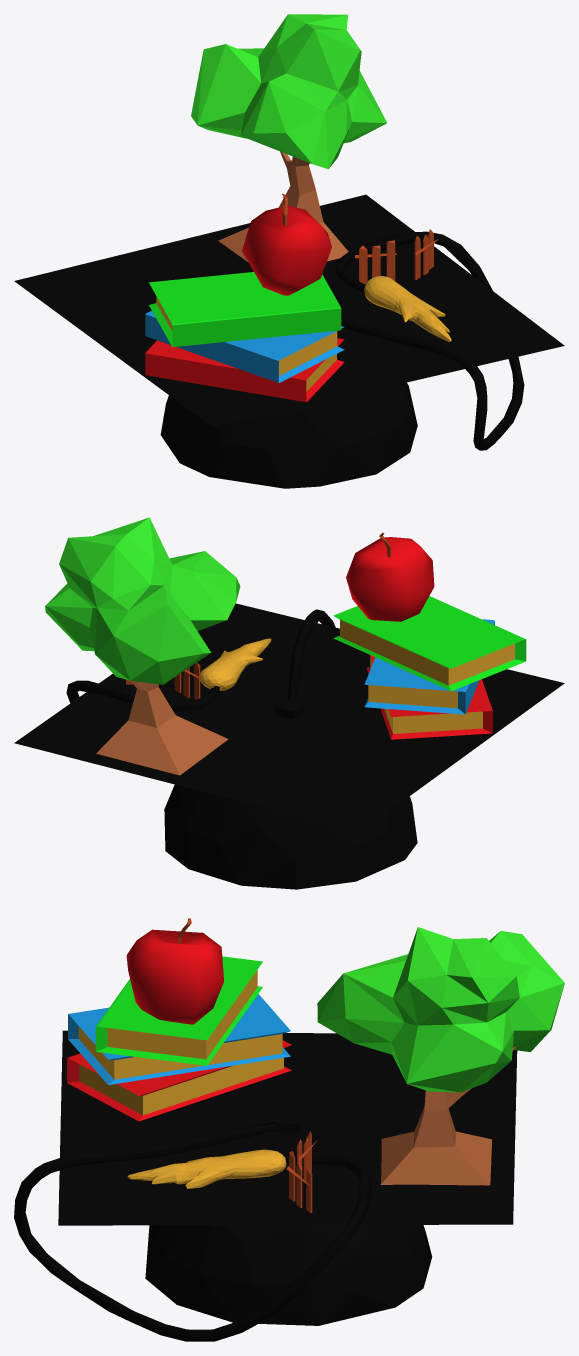
File: edu.gltf
3 renders of one model, top to bottom at view 1: azimuth 30°, elevation 25°; view 2: azimuth 150°, elevation 25°; view 3: azimuth 270°, elevation 25°, orthographic. The views are drawn at different scales.
Parts seen in each view (by area): view 1: Cube.012; view 2: Cube.012; view 3: Cube.012.
Part boxes in pixels (x1=…): Cube.012: x1=14, y1=14, x2=564, y2=488; Cube.012: x1=14, y1=517, x2=564, y2=889; Cube.012: x1=14, y1=918, x2=564, y2=1341.
Bounding box in the file's own units: 3 × 2.52 × 3.27.
